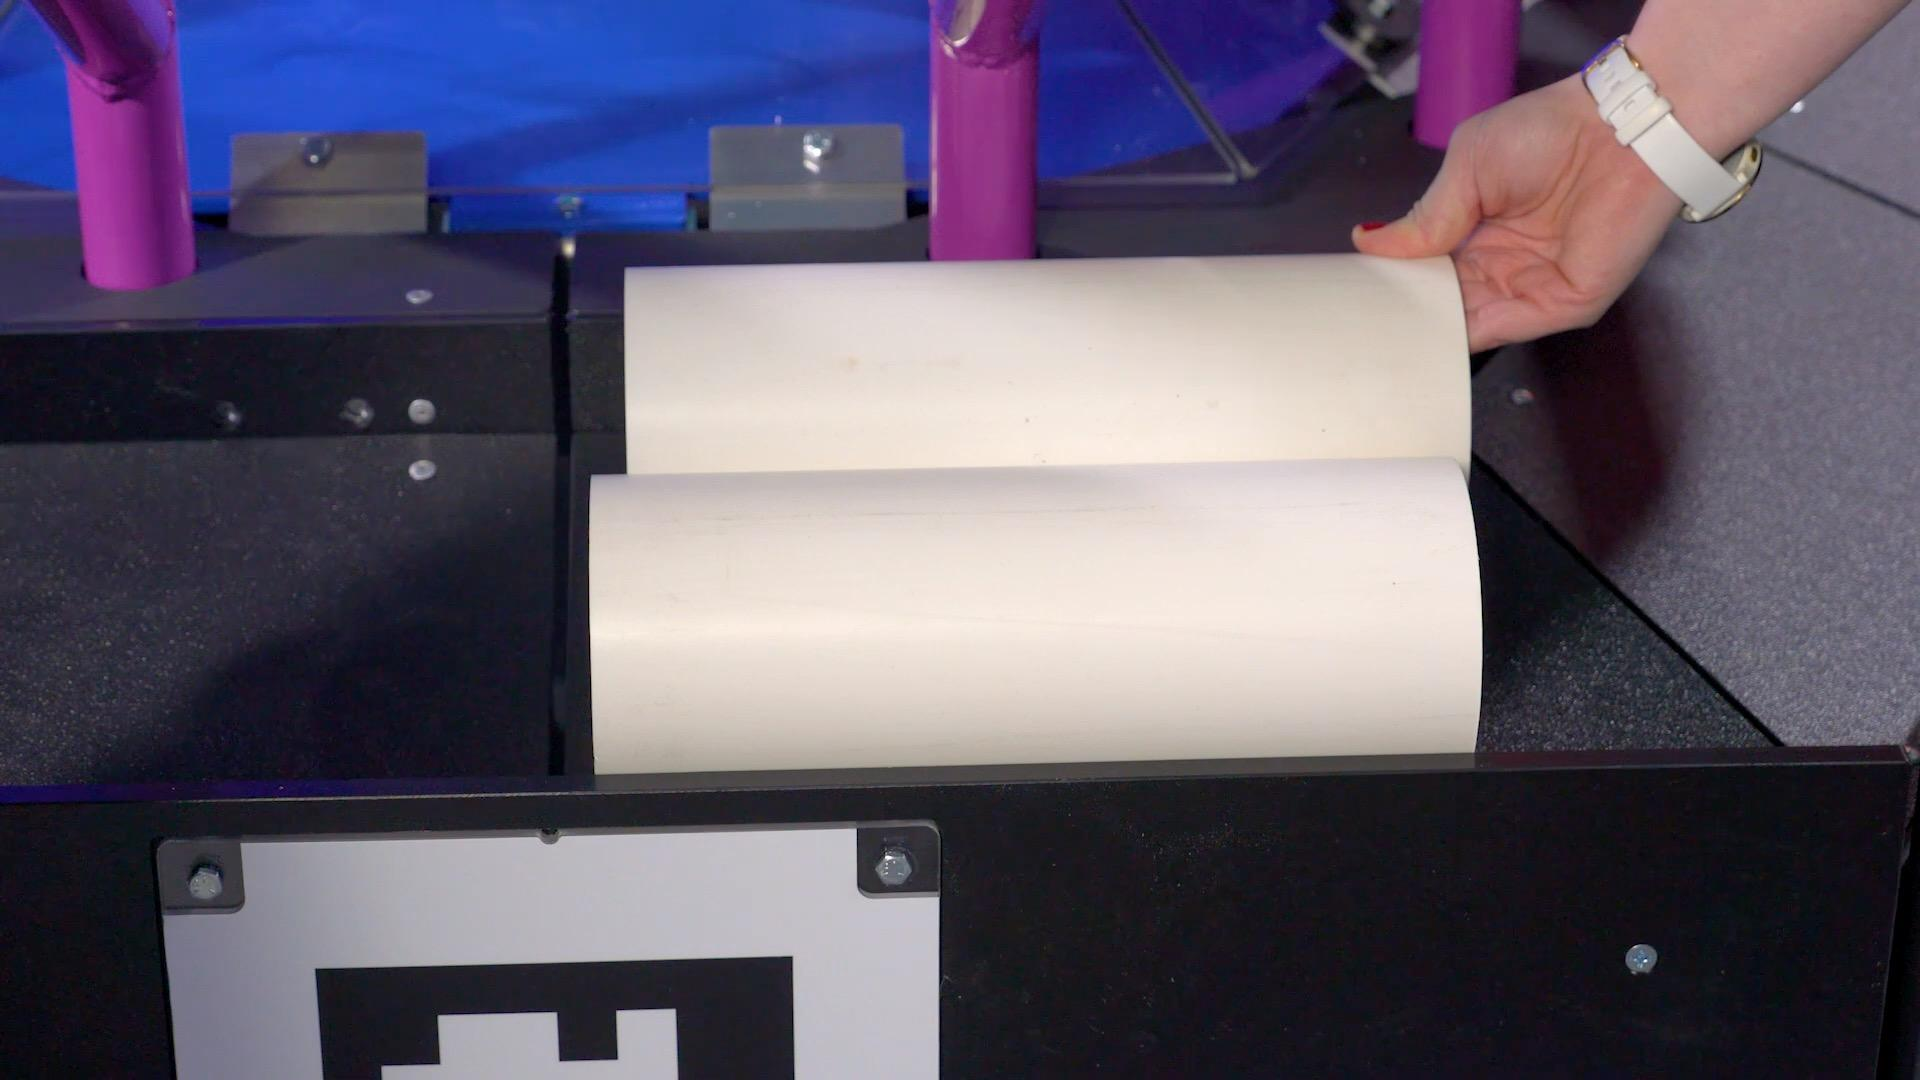CORAL: (585, 456, 1485, 774), (620, 251, 1476, 472)
